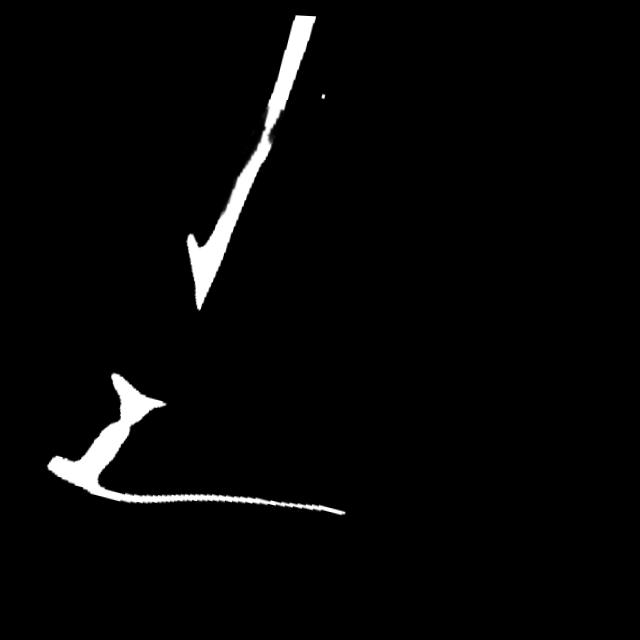sl: (248, 89, 293, 167)
